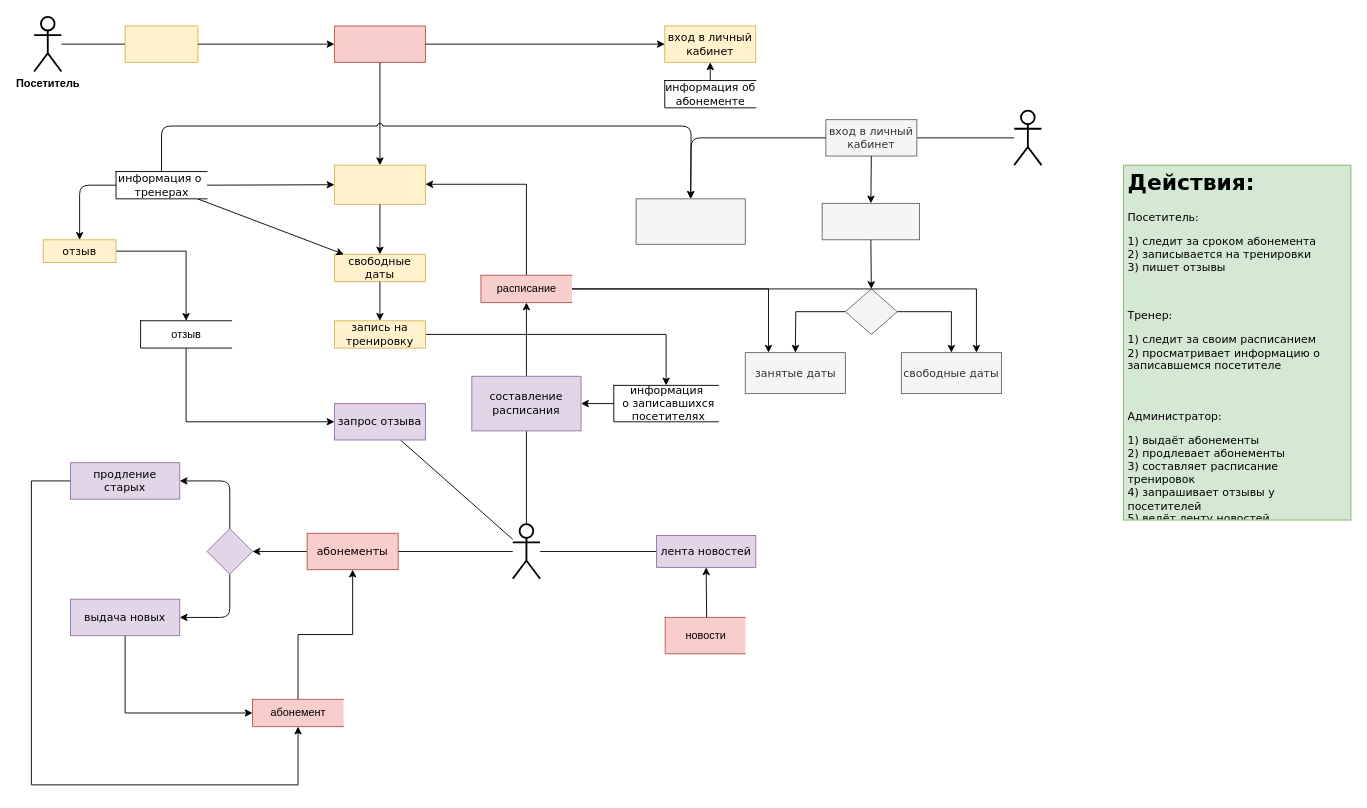
Some shapes in this 1367 by 808 pixel diagram are drawn without their labels. Each missing label, with the centre of its shape:
"Администратор" belongs at (x=526, y=551).
"аутентификация" belongs at (x=379, y=43).
"вход на сайт" belongs at (x=161, y=43).
"индивидуальное расписание" belongs at (x=870, y=221).
"расписание тренировок" belongs at (x=379, y=184).
"рейтинг исходя из отзывов" belongs at (x=690, y=221).
"Тренер" belongs at (x=1027, y=137).
